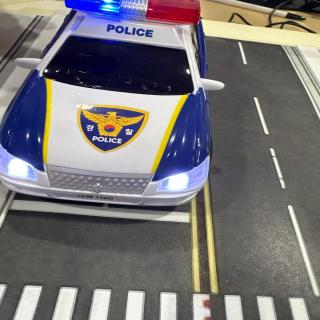Police_car: (0, 0, 224, 205)
